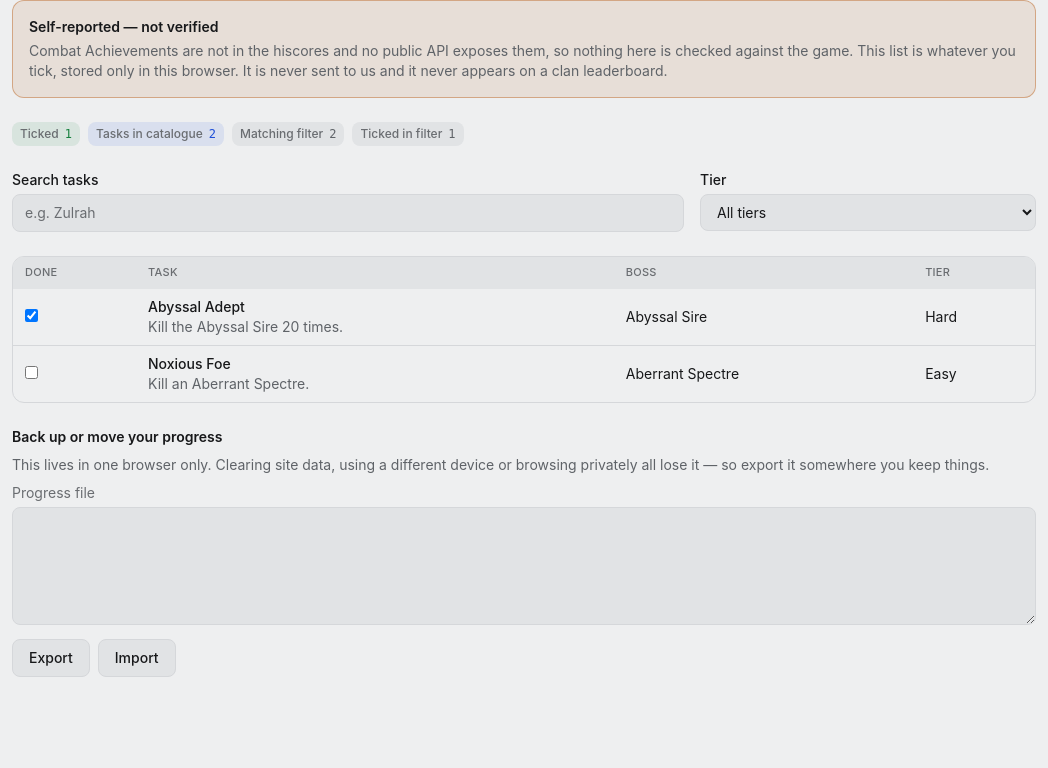
Test: CombatAchievementTracker › reports a bad import instead of silently wiping progress
The image size is (1048, 768).
Type "not json" into the text box labelled "Progress file" at (524, 566), box [12, 507, 1036, 625]
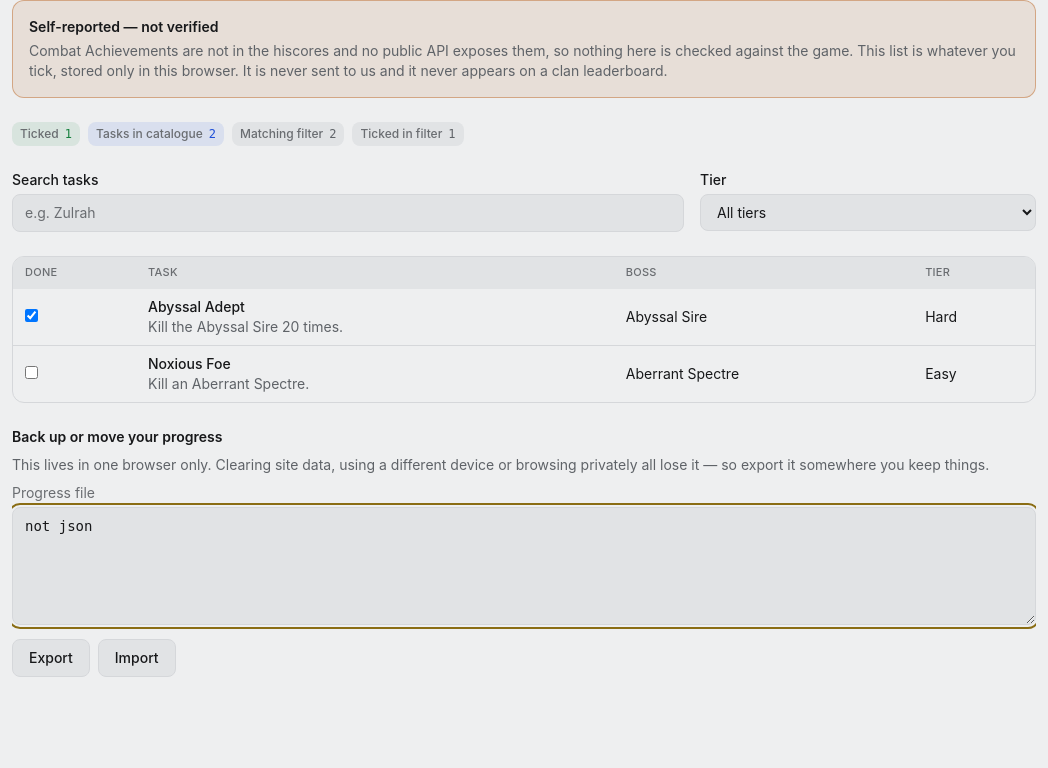
Click the button "Import" at (137, 658), box [98, 639, 176, 677]
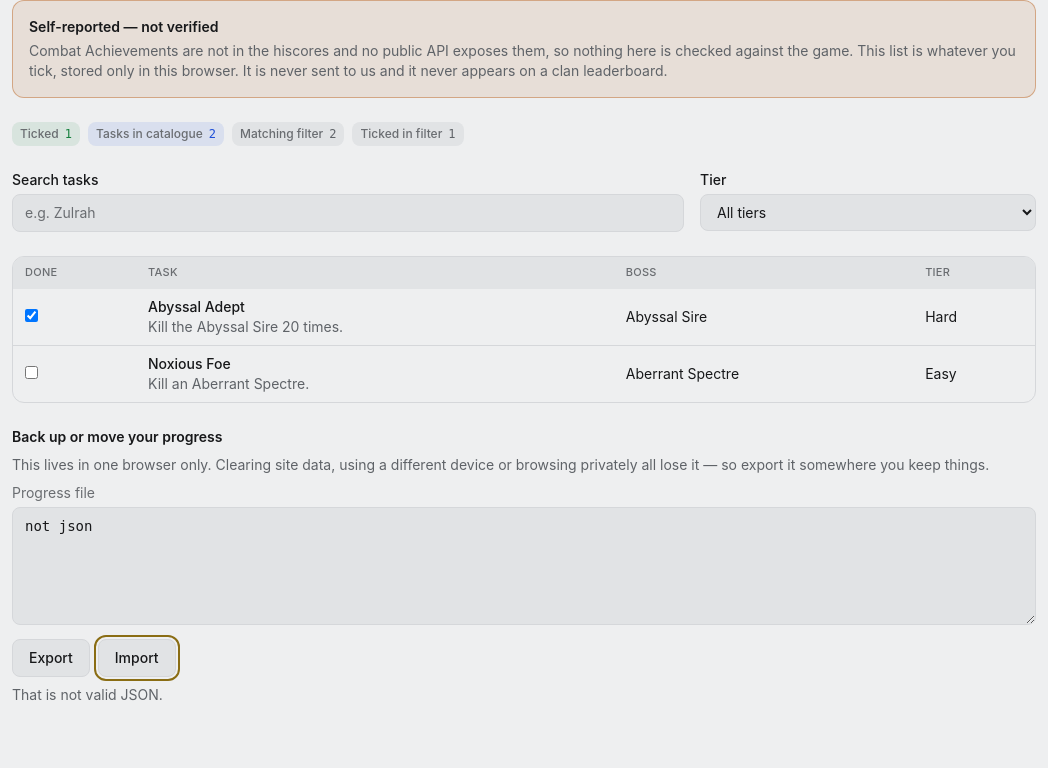
Expected: the checkbox named "Abyssal Adept" is checked, [25, 309, 38, 322]
Expected: the message shows "not valid JSON", [12, 686, 163, 703]
